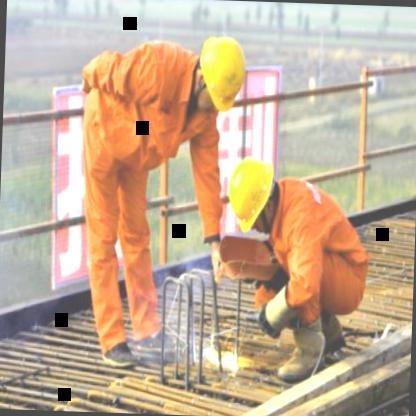helmet: (192, 31, 254, 116), (218, 149, 278, 236)
